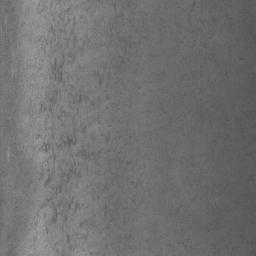Silk spot: (28, 0, 256, 256), (187, 133, 256, 256), (181, 80, 256, 145)
